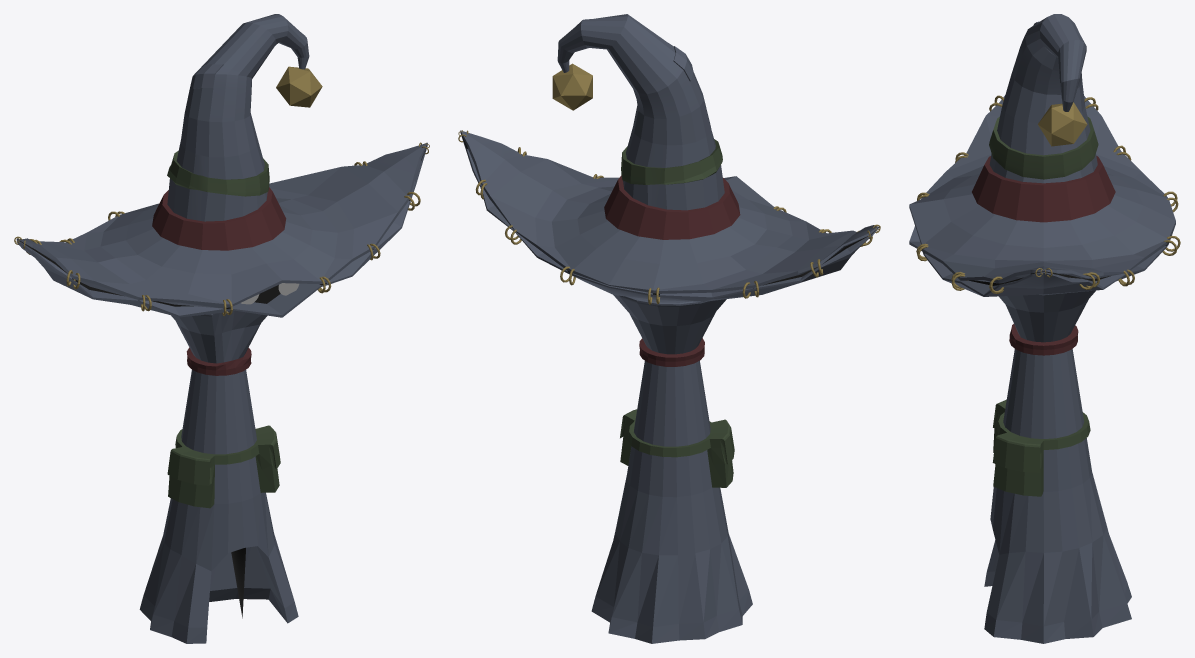
Rendered from Sketch.fbx.
The picture shows the model from 3 angles, left to right: view 1: azimuth 30°, elevation 25°; view 2: azimuth 150°, elevation 25°; view 3: azimuth 270°, elevation 25°; orthographic projection. The views are drawn at different scales.
Parts seen in each view (by area): view 1: Hat, Cloak, HatOrb; view 2: Hat, Cloak, HatOrb; view 3: Hat, Cloak, HatOrb.
Boxes of the visible parts, x1,y1,x2,y2 form: Hat: (16, 14, 427, 317); Cloak: (139, 310, 298, 643); HatOrb: (276, 66, 322, 107); Hat: (460, 14, 879, 301); Cloak: (591, 295, 752, 643); HatOrb: (552, 63, 592, 110); Hat: (909, 14, 1175, 296); Cloak: (984, 290, 1131, 643); HatOrb: (1038, 102, 1087, 146).
Bounding box in the file's own units: 3.12 × 4.2 × 1.67.
